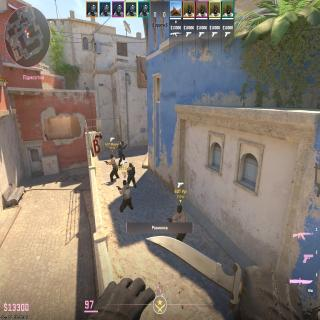CT-Body: (127, 162, 135, 188), (118, 140, 124, 163)
CT-Head: (129, 162, 132, 168), (121, 140, 124, 145)
T-Body: (120, 180, 132, 210), (175, 205, 187, 223), (110, 154, 118, 181)
T-Head: (177, 205, 182, 213), (110, 154, 114, 159), (122, 180, 126, 185)
